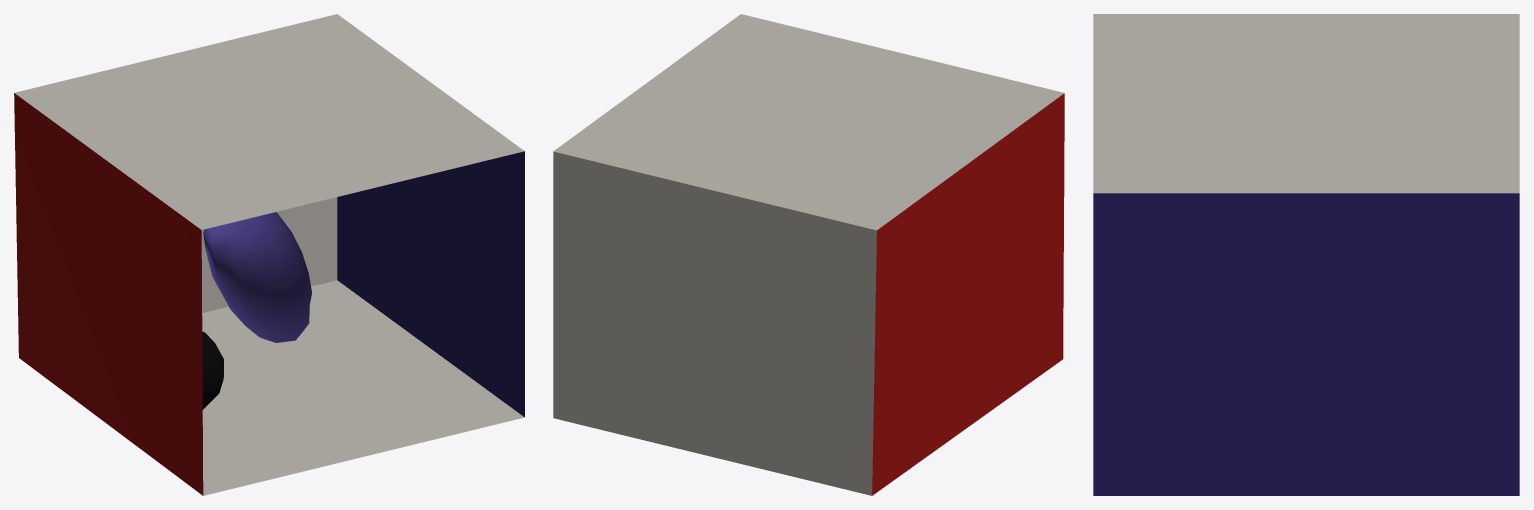
File: CornellBox-Ellipsoid-279.obj
The picture shows the model from 3 angles, left to right: view 1: azimuth 30°, elevation 25°; view 2: azimuth 150°, elevation 25°; view 3: azimuth 270°, elevation 25°; orthographic projection. The views are drawn at different scales.
Visible parts, largest first — view 1: ceiling, leftWall, floor, rightWall, leftSphere, backWall, rightSphere; view 2: backWall, ceiling, leftWall; view 3: rightWall, ceiling.
Boxes of the visible parts, x1=… form: ceiling: x1=14, y1=14, x2=524, y2=229; leftWall: x1=14, y1=93, x2=203, y2=495; floor: x1=202, y1=280, x2=524, y2=495; rightWall: x1=337, y1=151, x2=524, y2=417; leftSphere: x1=203, y1=212, x2=311, y2=342; backWall: x1=201, y1=197, x2=337, y2=312; rightSphere: x1=202, y1=331, x2=223, y2=409; backWall: x1=553, y1=151, x2=876, y2=495; ceiling: x1=553, y1=14, x2=1064, y2=230; leftWall: x1=872, y1=93, x2=1064, y2=495; rightWall: x1=1093, y1=193, x2=1519, y2=495; ceiling: x1=1093, y1=14, x2=1519, y2=193.
Bounding box in the file's own units: 2.02 × 1.59 × 2.03.
